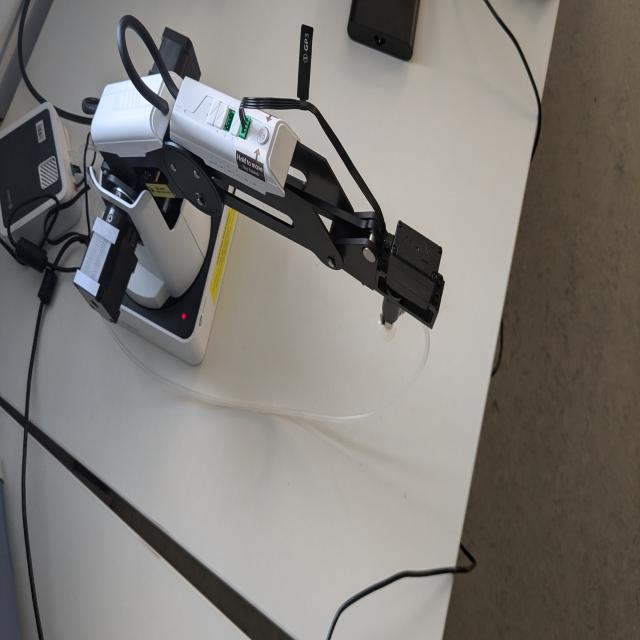Robot-end-effector-HF8z: (368, 218, 446, 344)
